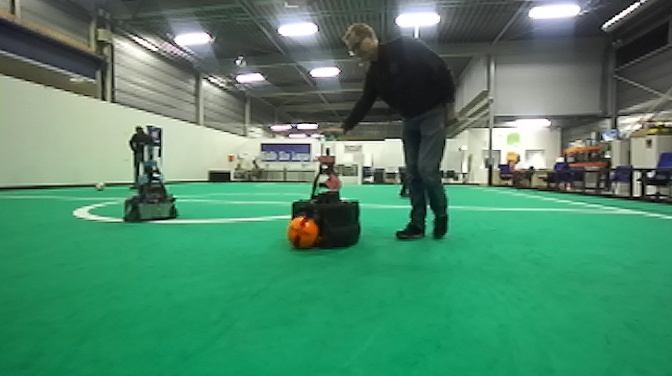ball: (283, 215, 319, 252), (93, 180, 108, 191)
goalpost: (356, 159, 363, 186)
human: (314, 20, 458, 242), (126, 124, 153, 191)
robot: (286, 134, 363, 252), (118, 136, 182, 226)
